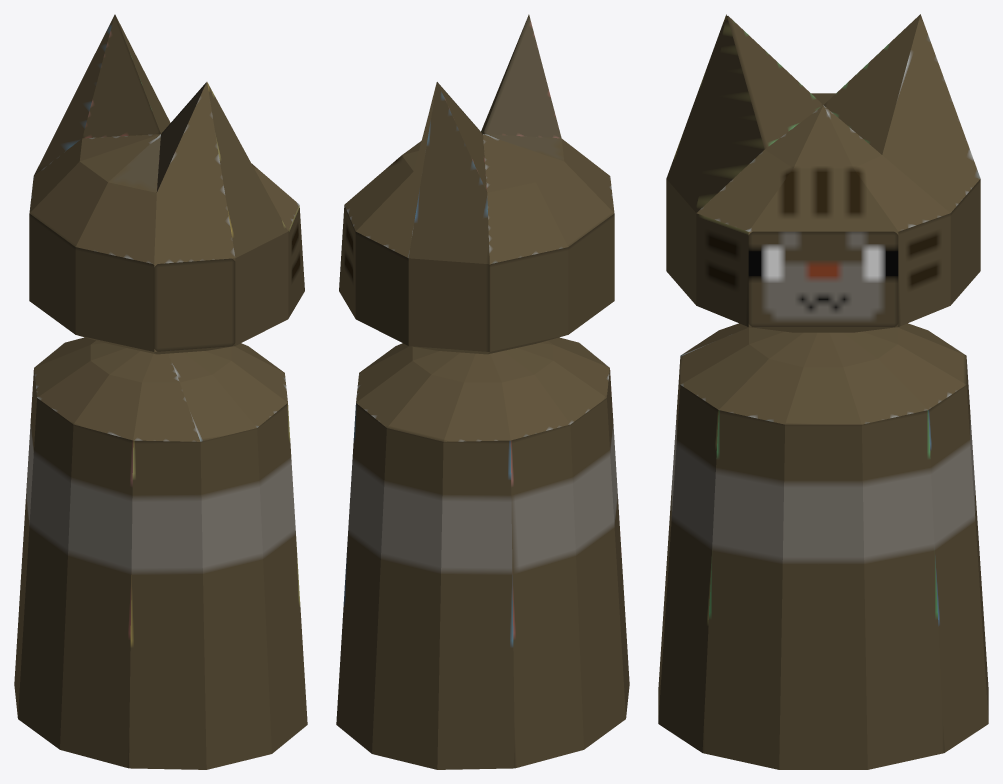
Rendered from NPC 3.obj.
The picture shows the model from 3 angles, left to right: view 1: azimuth 30°, elevation 25°; view 2: azimuth 150°, elevation 25°; view 3: azimuth 270°, elevation 25°; orthographic projection. The views are drawn at different scales.
Visible parts, largest first — view 1: sphere; view 2: sphere; view 3: sphere.
Boxes of the visible parts, x1,y1,x2,y2 form: sphere: (14,14,307,769); sphere: (336,14,629,769); sphere: (658,14,988,769).
Size of the model in its own units: 0.2812 by 0.7233 by 0.3125.
1 material, 1 textured.
